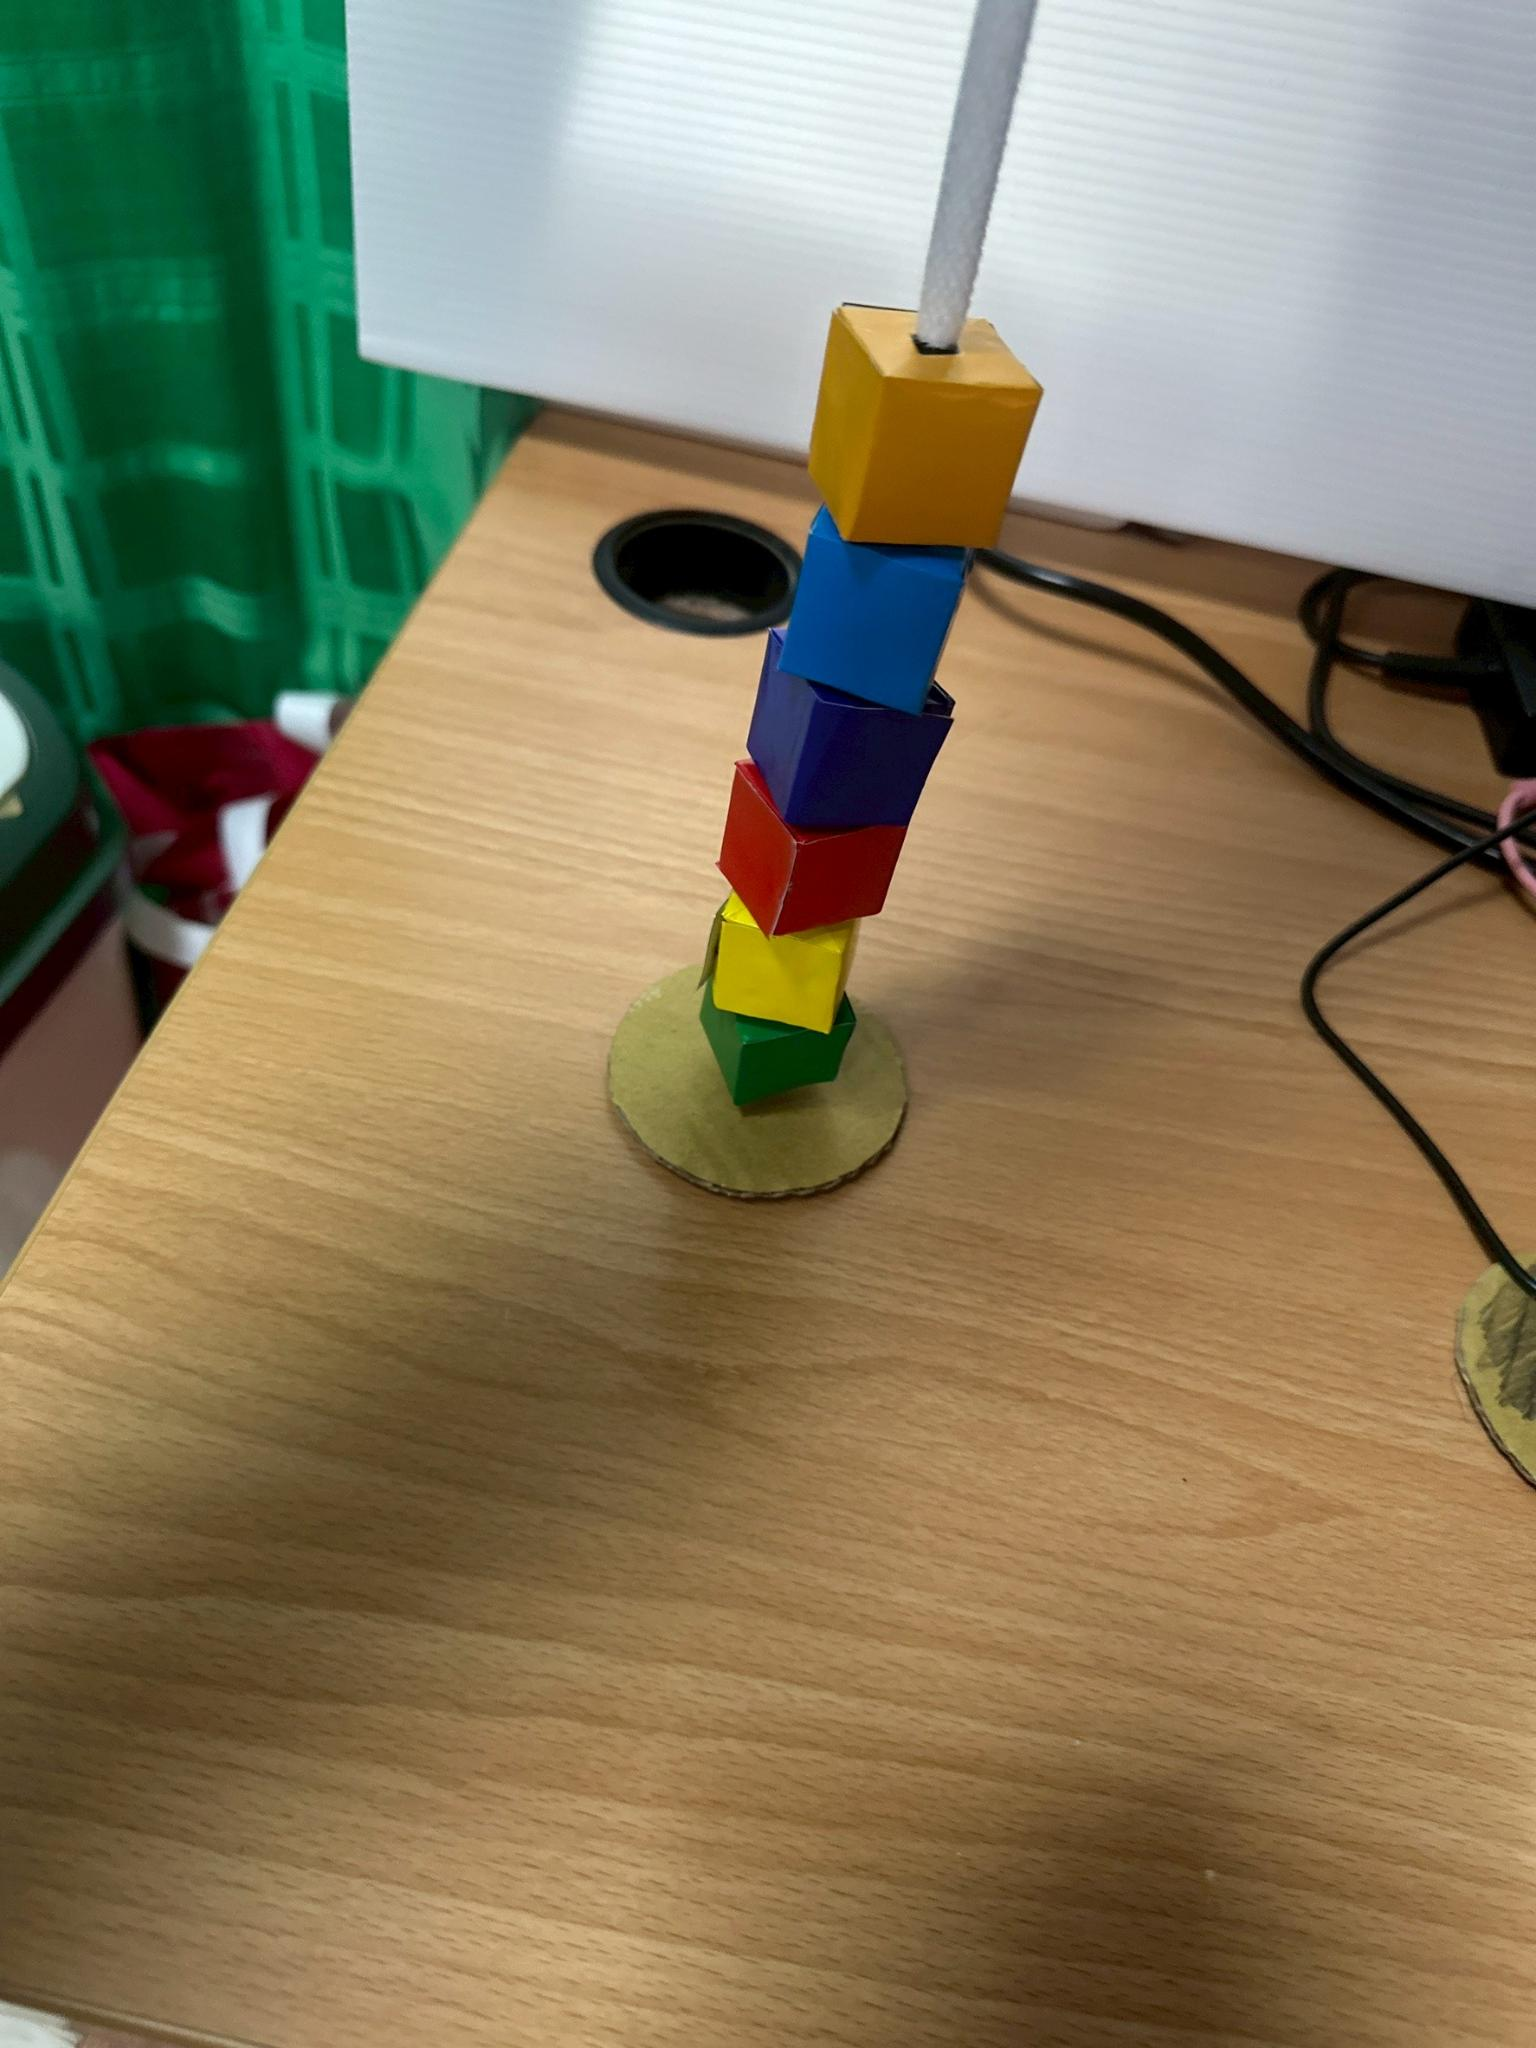base: (607, 968, 908, 1197)
